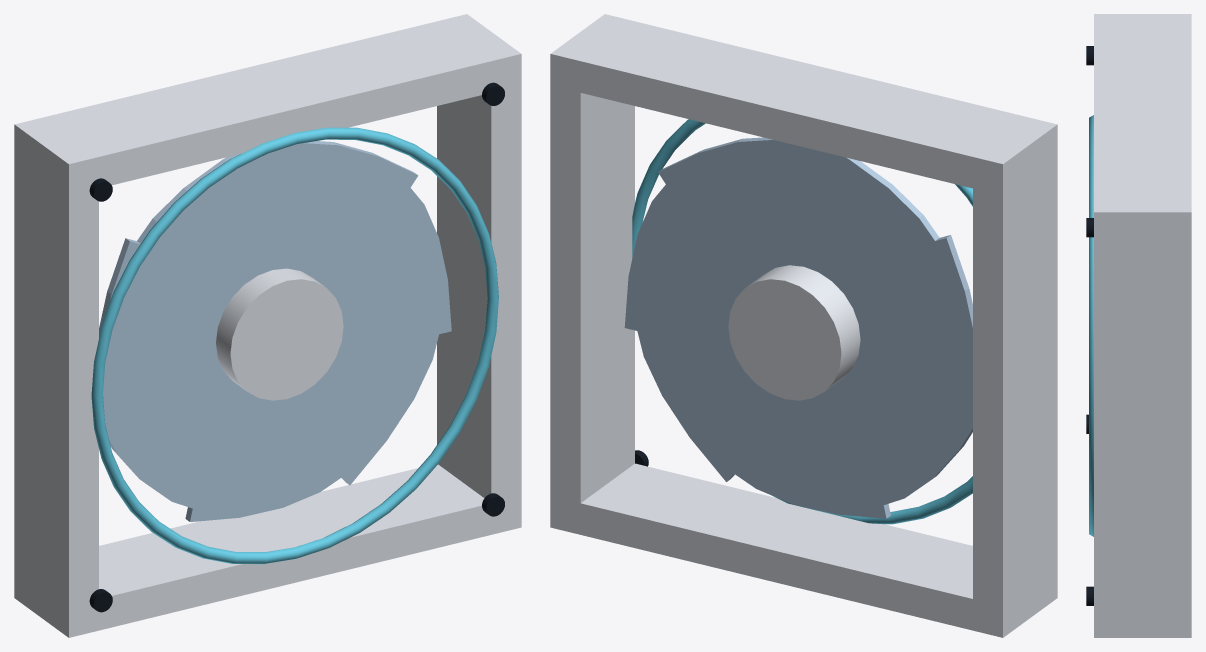
The model's file is retail-lian-li-uni-fan-sl120-rgb-white.glb.
3 views of the same model, side by side, from view 1: azimuth 30°, elevation 25°; view 2: azimuth 150°, elevation 25°; view 3: azimuth 270°, elevation 25° (orthographic). The views are drawn at different scales.
Visible parts, largest first — view 1: Frame edge (×4), Blade (×7), Intake rim, Motor hub; view 2: Frame edge (×4), Blade (×7), Motor hub, Intake rim; view 3: Frame edge (×3), Intake rim.
Boxes of the visible parts, left/top/right/bottom form: Frame edge (×4): left=14, top=14, right=521, bottom=637; Blade (×7): left=99, top=141, right=451, bottom=521; Intake rim: left=91, top=127, right=498, bottom=564; Motor hub: left=216, top=268, right=343, bottom=400; Frame edge (×4): left=550, top=14, right=1057, bottom=637; Blade (×7): left=624, top=137, right=972, bottom=518; Motor hub: left=728, top=265, right=860, bottom=400; Intake rim: left=632, top=119, right=972, bottom=524; Frame edge (×3): left=1094, top=14, right=1191, bottom=637; Intake rim: left=1089, top=115, right=1093, bottom=536.
Bounding box in the file's own units: 0.12 × 0.12 × 0.027.
